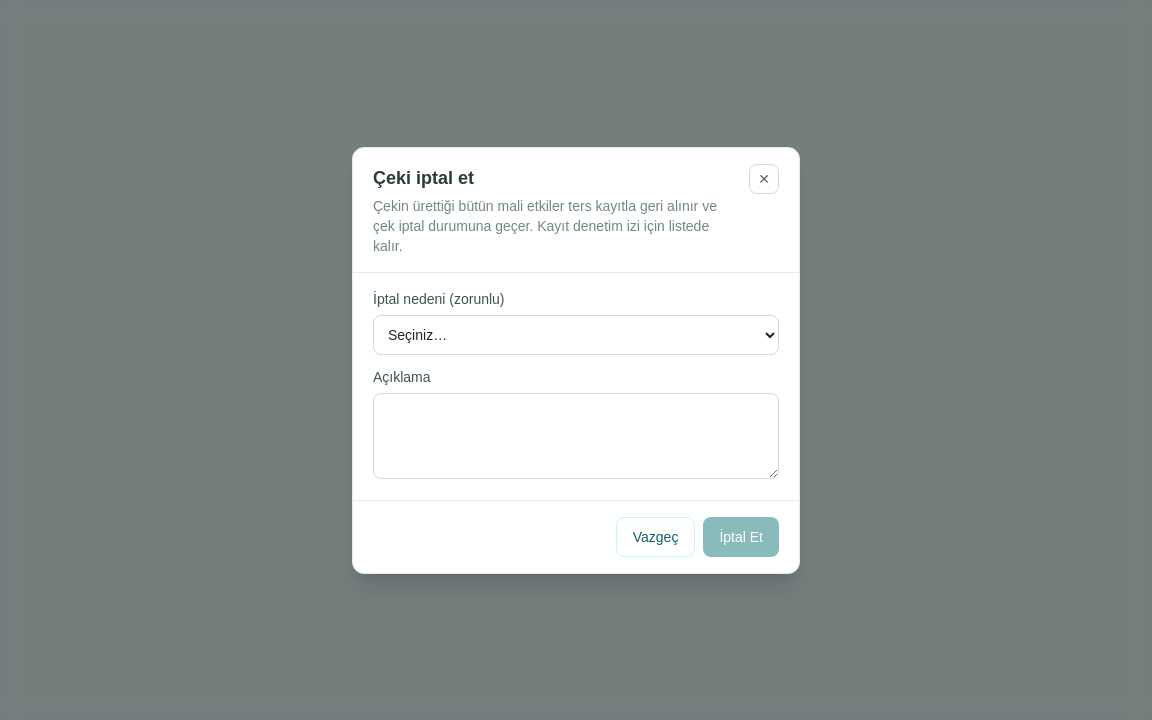
it: çek iptal diyaloğu › "Diğer" seçilince açıklama zorunlu
The image size is (1152, 720).
Later steps or results of the test are not shown.
Select "Diğer" in the dropdown: x=576, y=334 [373,314,779,354]
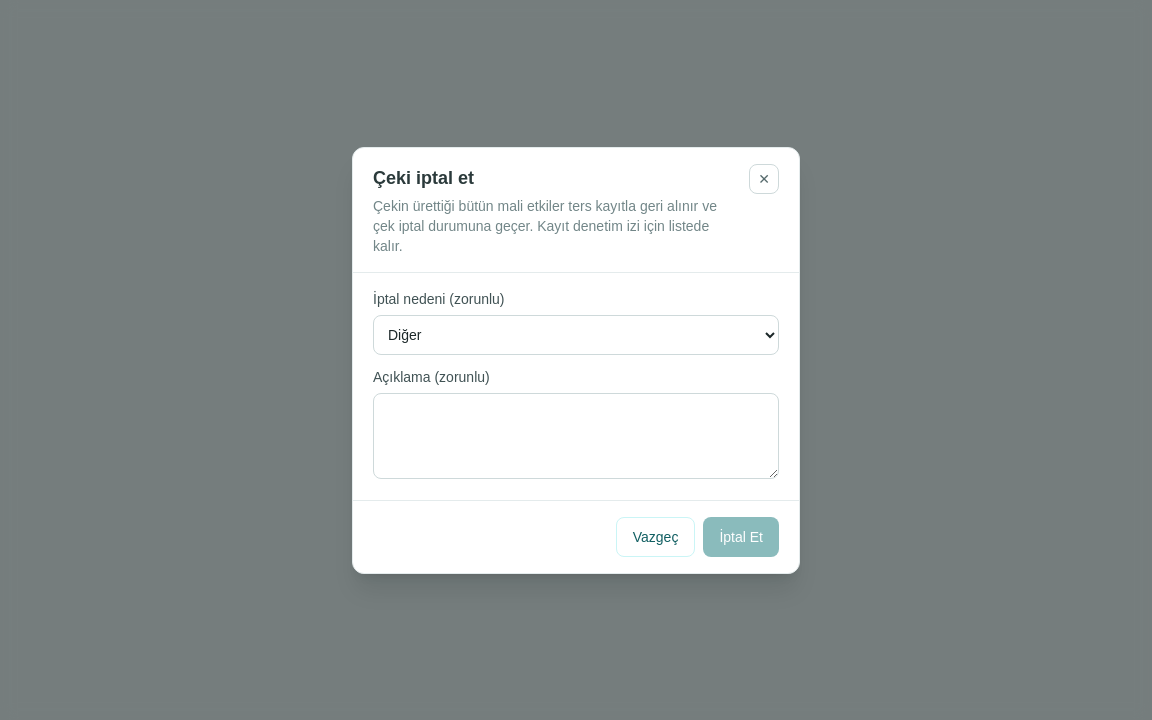
expect the button "İptal Et" is disabled: met, box [703,516,779,556]
In the text box: x=576, y=436 [373,392,779,478], type "  Mükerrer kayıt  "
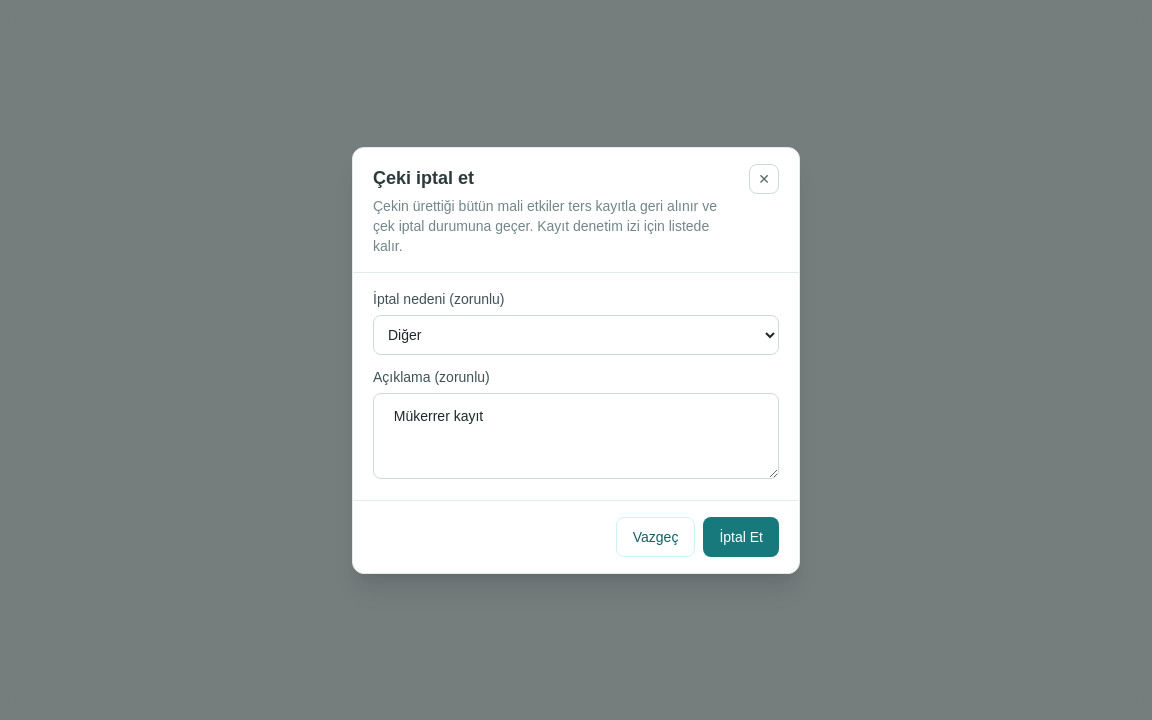
expect the button "İptal Et" is enabled: met, box [703,516,779,556]
